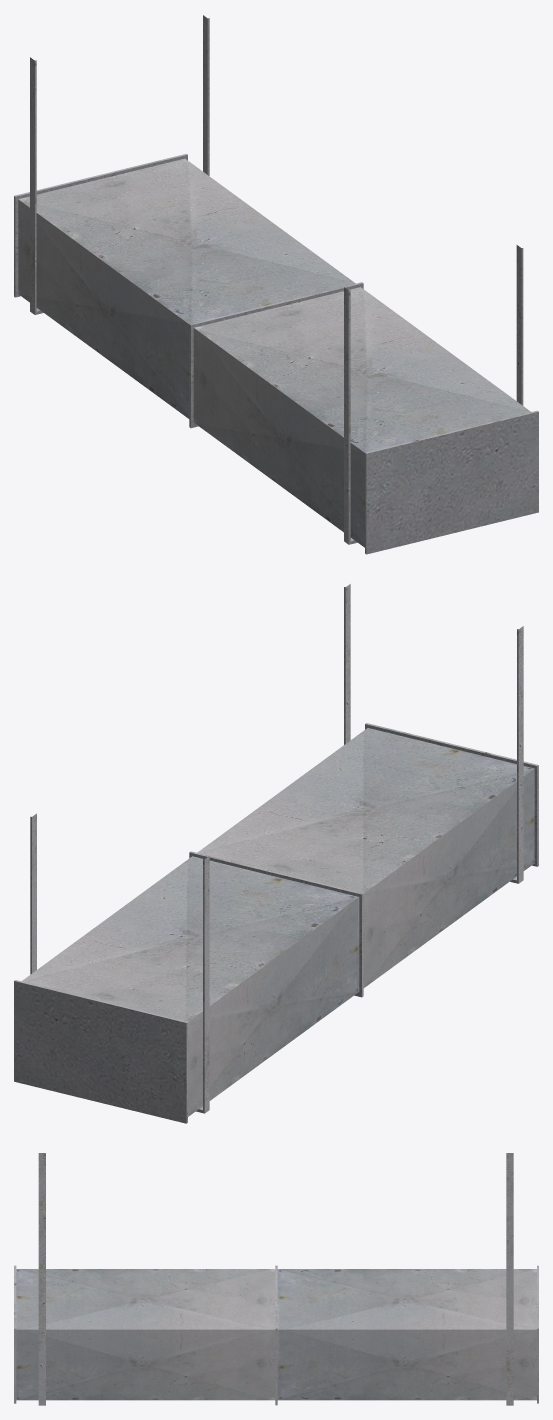
The model's file is vent_large_straight001.glb.
3 renders of one model, top to bottom at view 1: azimuth 30°, elevation 25°; view 2: azimuth 150°, elevation 25°; view 3: azimuth 270°, elevation 25°, orthographic. The views are drawn at different scales.
Visible parts, largest first — view 1: 0_borealis_vent001; view 2: 0_borealis_vent001; view 3: 0_borealis_vent001.
Boxes of the visible parts, x1,y1,x2,y2 form: 0_borealis_vent001: (14,15,538,554); 0_borealis_vent001: (14,584,538,1123); 0_borealis_vent001: (14,1153,538,1405).
Size of the model in its own units: 0.9302 by 1.3 by 3.25.
1 material, 1 textured.
